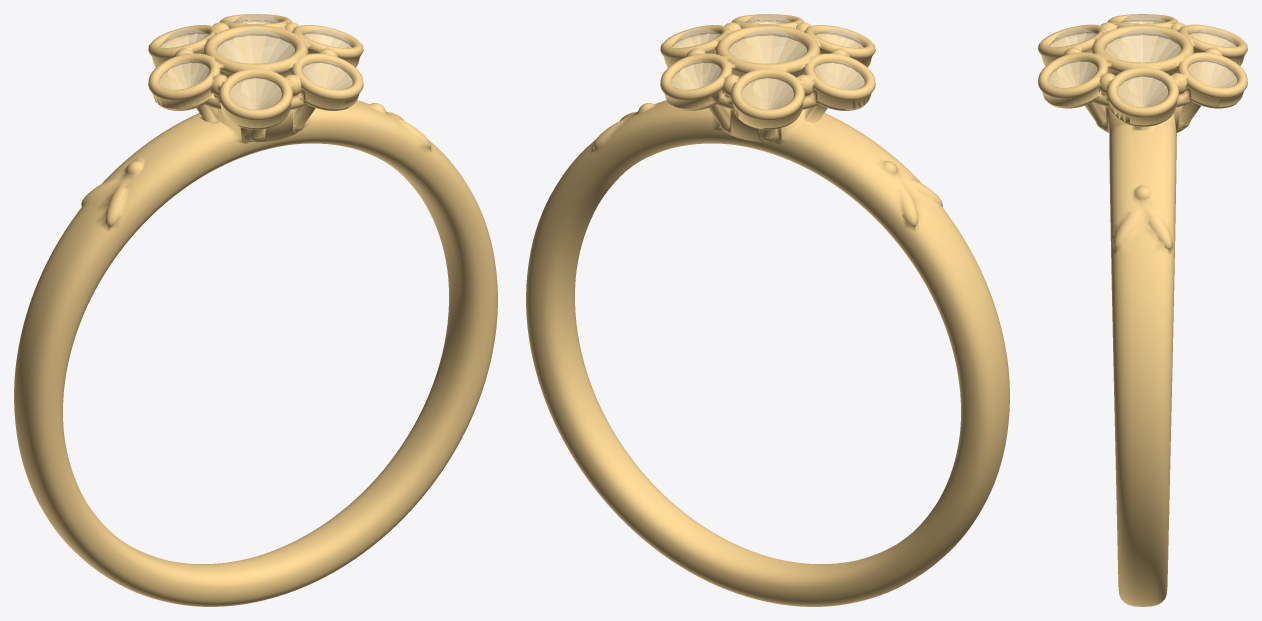
File: ring_floral_cluster.glb
3 renders of one model, left to right at view 1: azimuth 30°, elevation 25°; view 2: azimuth 150°, elevation 25°; view 3: azimuth 270°, elevation 25°, orthographic. The views are drawn at different scales.
Visible parts, largest first — view 1: gold, centre_stone, petal4_stone, petal3_stone, petal5_stone; view 2: gold, centre_stone, petal2_stone, petal1_stone, petal3_stone; view 3: gold, centre_stone, petal0_stone, petal5_stone, petal1_stone, petal4_stone, petal2_stone, petal3_stone.
Part boxes in pixels (box(x1,y1,x2,y2)): gold: box(14, 14, 497, 606); centre_stone: box(217, 29, 294, 63); petal4_stone: box(230, 77, 281, 109); petal3_stone: box(159, 61, 208, 89); petal5_stone: box(303, 61, 352, 89); gold: box(526, 14, 1009, 606); centre_stone: box(729, 29, 806, 63); petal2_stone: box(742, 77, 793, 109); petal1_stone: box(671, 61, 720, 89); petal3_stone: box(815, 61, 864, 89); gold: box(1038, 14, 1247, 606); centre_stone: box(1105, 29, 1180, 62); petal0_stone: box(1118, 76, 1167, 106); petal5_stone: box(1049, 60, 1097, 87); petal1_stone: box(1188, 60, 1236, 87); petal4_stone: box(1049, 28, 1096, 46); petal2_stone: box(1189, 28, 1236, 46); petal3_stone: box(1121, 14, 1164, 23).
Size of the model in its own units: 0.0204 by 0.0231 by 0.00807.
